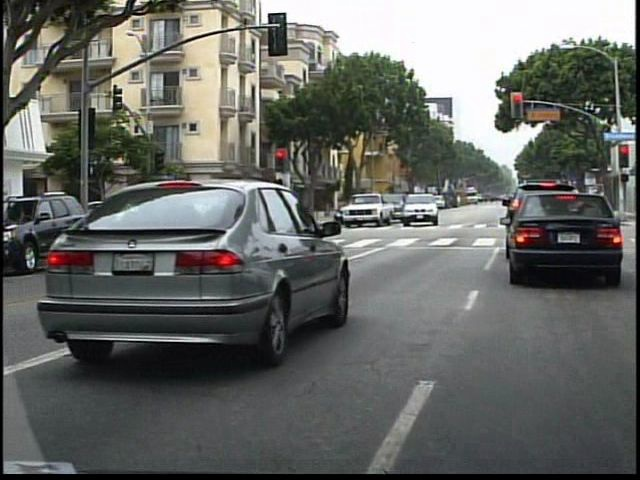person: (168, 191, 186, 237), (188, 193, 206, 234)
